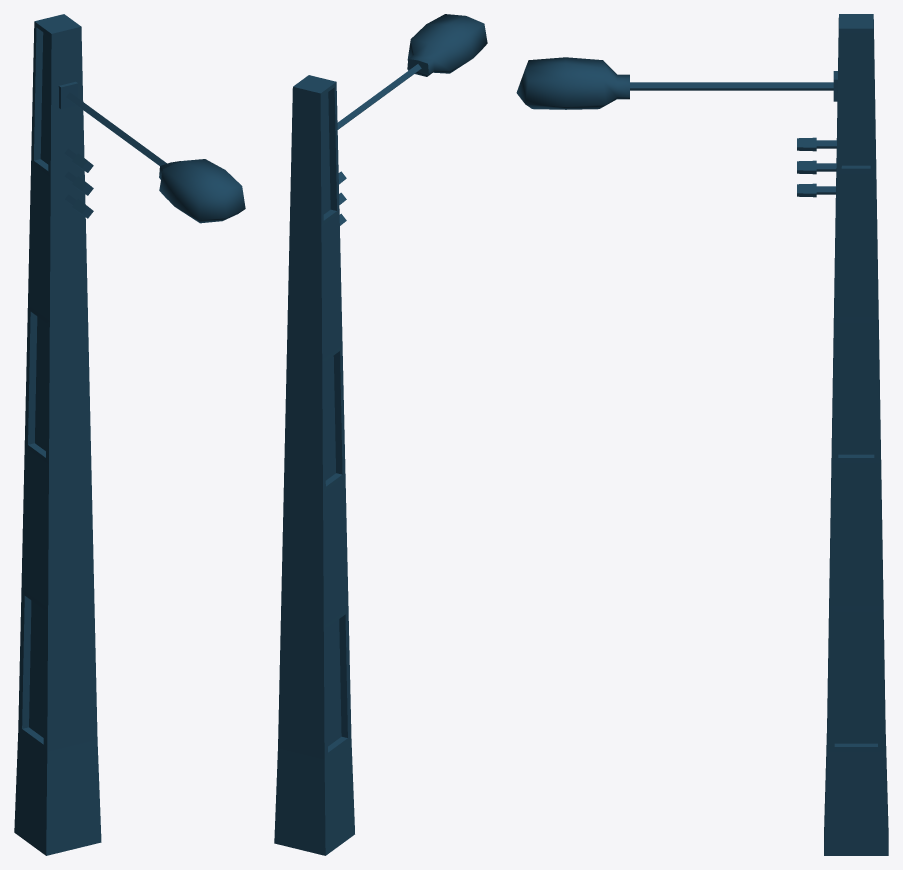
File: Poste Normal.fbx
3 views of the same model, side by side, from view 1: azimuth 30°, elevation 25°; view 2: azimuth 150°, elevation 25°; view 3: azimuth 270°, elevation 25° (orthographic). The views are drawn at different scales.
Visible parts, largest first — view 1: Poste Normal.001; view 2: Poste Normal.001; view 3: Poste Normal.001.
Part boxes in pixels (x1=…): Poste Normal.001: x1=14, y1=14, x2=245, y2=855; Poste Normal.001: x1=274, y1=14, x2=487, y2=855; Poste Normal.001: x1=516, y1=14, x2=888, y2=855.
Bounding box in the file's own units: 40.24 × 555 × 228.
